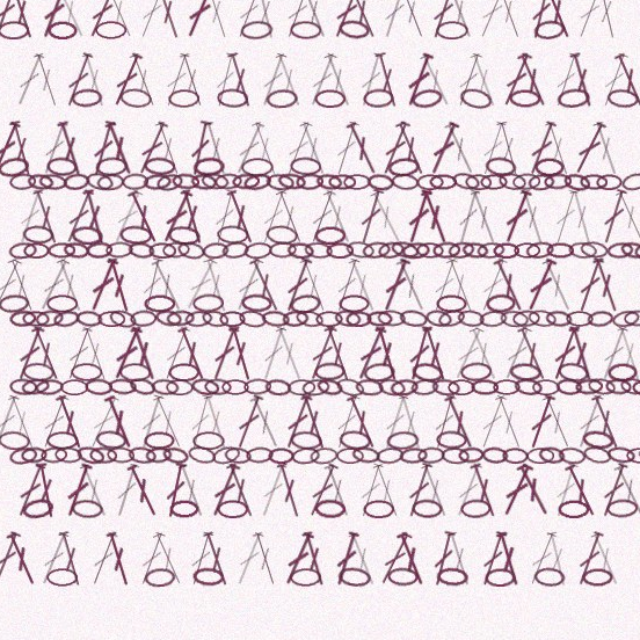chain: (417, 122, 448, 144), (40, 476, 69, 497), (376, 123, 405, 143), (19, 182, 48, 202), (271, 300, 300, 320), (376, 359, 405, 379), (502, 359, 531, 379), (313, 64, 342, 83), (502, 123, 531, 142), (523, 418, 552, 437), (313, 536, 342, 555), (482, 64, 510, 83), (125, 123, 153, 142), (440, 182, 468, 201), (251, 241, 279, 260), (104, 418, 132, 437), (314, 418, 342, 437), (229, 65, 258, 83), (166, 242, 195, 260), (355, 419, 384, 437), (115, 313, 141, 333), (311, 372, 337, 392), (251, 124, 279, 142), (545, 124, 573, 142), (356, 183, 384, 201), (83, 242, 111, 260), (20, 301, 48, 319), (41, 360, 69, 378), (335, 360, 363, 378), (461, 360, 489, 378), (20, 419, 48, 437), (272, 419, 300, 437), (83, 478, 111, 496), (146, 537, 174, 555), (95, 195, 121, 214), (411, 195, 437, 214), (557, 195, 583, 214), (358, 254, 384, 273), (132, 372, 158, 391), (87, 431, 113, 450), (183, 431, 209, 450), (204, 431, 230, 450), (524, 431, 550, 450), (83, 124, 111, 141), (104, 183, 132, 200), (188, 183, 216, 200), (41, 242, 69, 259), (125, 242, 153, 259), (398, 537, 426, 554), (482, 537, 510, 554), (568, 254, 593, 273), (399, 313, 424, 332), (231, 196, 257, 214), (174, 255, 200, 273), (227, 314, 253, 332), (276, 314, 302, 332), (549, 314, 575, 332), (579, 314, 605, 332), (347, 373, 373, 391), (29, 432, 55, 450), (209, 124, 236, 141), (335, 124, 362, 141), (62, 183, 89, 200), (146, 183, 173, 200), (272, 183, 299, 200), (209, 242, 236, 259), (188, 301, 215, 318), (230, 301, 257, 318), (293, 360, 320, 377), (419, 360, 446, 377), (398, 419, 425, 436), (293, 478, 320, 495), (377, 478, 404, 495), (419, 478, 446, 495), (545, 478, 572, 495), (188, 537, 215, 554), (356, 537, 383, 554), (156, 196, 181, 214), (507, 196, 532, 214), (556, 255, 581, 273), (67, 314, 92, 332), (195, 314, 220, 332), (294, 373, 319, 391), (161, 432, 186, 450), (398, 66, 426, 82), (230, 184, 258, 200), (62, 420, 90, 436), (188, 420, 216, 436), (451, 196, 477, 213), (441, 301, 467, 318), (186, 373, 212, 390), (528, 373, 554, 390), (556, 373, 582, 390), (20, 66, 47, 82), (104, 66, 131, 82), (272, 66, 299, 82), (167, 125, 194, 141), (293, 125, 320, 141), (461, 125, 488, 141), (293, 243, 320, 259), (62, 302, 89, 318), (146, 302, 173, 318), (314, 302, 341, 318), (398, 302, 425, 318), (83, 361, 110, 377), (125, 361, 152, 377), (167, 361, 194, 377), (146, 420, 173, 436), (209, 479, 236, 495), (335, 479, 362, 495), (503, 479, 530, 495), (62, 538, 89, 554), (272, 538, 299, 554), (440, 538, 467, 554), (524, 538, 551, 554), (195, 196, 220, 213), (261, 196, 286, 213), (575, 196, 600, 213), (320, 255, 345, 272), (334, 255, 359, 272), (347, 255, 372, 272), (475, 255, 500, 272), (522, 255, 547, 272), (584, 255, 609, 272), (52, 314, 77, 331), (155, 314, 180, 331), (366, 314, 391, 331), (388, 314, 413, 331), (477, 314, 502, 331), (40, 373, 65, 390), (465, 373, 490, 390), (132, 432, 157, 449), (325, 432, 350, 449), (545, 432, 570, 449), (63, 66, 89, 82), (483, 184, 509, 200), (546, 361, 572, 377), (168, 479, 194, 495), (76, 196, 100, 213), (213, 255, 237, 272), (408, 255, 432, 272), (310, 314, 334, 331), (416, 314, 440, 331), (486, 432, 510, 449), (572, 432, 596, 449), (55, 197, 80, 213), (105, 197, 130, 213), (145, 197, 170, 213), (251, 197, 276, 213), (359, 197, 384, 213), (29, 256, 54, 272), (232, 256, 257, 272), (284, 256, 309, 272), (368, 256, 393, 272), (433, 256, 458, 272), (512, 256, 537, 272), (181, 315, 206, 331), (247, 315, 272, 331), (435, 315, 460, 331), (453, 315, 478, 331), (52, 374, 77, 390), (152, 374, 177, 390), (282, 374, 307, 390), (328, 374, 353, 390), (358, 374, 383, 390), (376, 374, 401, 390), (394, 374, 419, 390), (273, 433, 298, 449), (289, 433, 314, 449), (346, 433, 371, 449), (366, 433, 391, 449), (402, 433, 427, 449), (503, 433, 528, 449), (45, 197, 69, 213), (186, 197, 210, 213), (294, 197, 318, 213), (338, 197, 362, 213), (477, 197, 501, 213), (76, 256, 100, 272), (132, 256, 156, 272), (196, 256, 220, 272), (269, 256, 293, 272), (420, 256, 444, 272), (545, 256, 569, 272), (87, 315, 111, 331), (492, 315, 516, 331), (528, 315, 552, 331), (250, 374, 274, 390), (215, 433, 239, 449), (165, 315, 190, 330), (347, 315, 372, 330), (115, 374, 140, 389), (170, 197, 194, 212), (207, 197, 231, 212), (222, 197, 246, 212), (277, 197, 301, 212), (464, 197, 488, 212), (491, 197, 515, 212), (113, 256, 137, 271), (162, 256, 186, 271), (254, 256, 278, 271), (395, 256, 419, 271), (265, 315, 289, 330), (464, 315, 488, 330), (560, 315, 584, 330), (30, 374, 54, 389), (95, 374, 119, 389), (198, 374, 222, 389), (232, 374, 256, 389), (501, 374, 525, 389), (518, 374, 542, 389), (69, 433, 93, 448), (99, 433, 123, 448), (114, 433, 138, 448), (147, 433, 171, 448), (234, 433, 258, 448), (382, 433, 406, 448), (437, 433, 461, 448), (30, 197, 53, 212), (127, 197, 150, 212), (96, 256, 119, 271), (30, 315, 53, 330), (134, 315, 157, 330), (544, 374, 567, 389), (40, 433, 63, 448), (57, 433, 80, 448), (417, 433, 440, 448), (305, 198, 329, 212), (318, 198, 342, 212), (381, 198, 405, 212), (392, 198, 416, 212), (436, 198, 460, 212), (522, 198, 546, 212), (63, 257, 87, 271), (150, 257, 174, 271), (303, 257, 327, 271), (381, 257, 405, 271), (493, 257, 517, 271), (41, 316, 65, 330), (106, 316, 130, 330), (294, 316, 318, 330), (510, 316, 534, 330), (74, 375, 98, 389), (165, 375, 189, 389), (213, 375, 237, 389), (270, 375, 294, 389), (408, 375, 432, 389), (428, 375, 452, 389), (447, 375, 471, 389), (481, 375, 505, 389), (567, 375, 591, 389), (312, 434, 336, 448), (476, 434, 500, 448), (562, 434, 586, 448), (423, 198, 446, 212), (536, 198, 559, 212), (42, 257, 65, 271), (447, 257, 470, 271), (465, 257, 488, 271), (211, 316, 234, 330), (320, 316, 343, 330), (338, 316, 361, 330), (253, 434, 276, 448), (455, 434, 478, 448)
double: (177, 269, 213, 318), (464, 446, 500, 495), (317, 151, 352, 201), (513, 151, 548, 201), (338, 210, 373, 260), (51, 269, 86, 319), (149, 269, 184, 319), (128, 446, 163, 496), (506, 446, 541, 496), (548, 446, 583, 496), (345, 505, 380, 555), (66, 33, 100, 83), (381, 92, 415, 142), (136, 151, 170, 201), (220, 151, 254, 201), (402, 151, 436, 201), (115, 210, 149, 260), (129, 210, 163, 260), (157, 210, 191, 260), (549, 210, 583, 260), (10, 269, 44, 319), (234, 269, 268, 319), (360, 269, 394, 319), (444, 269, 478, 319), (486, 269, 520, 319), (409, 328, 443, 378), (94, 387, 128, 437), (150, 387, 184, 437), (234, 387, 268, 437), (283, 446, 317, 496), (451, 446, 485, 496), (24, 505, 58, 555), (150, 505, 184, 555), (262, 505, 296, 555), (94, 33, 127, 83), (108, 33, 141, 83), (178, 33, 211, 83), (318, 33, 351, 83), (430, 33, 463, 83), (31, 92, 64, 142), (115, 92, 148, 142), (451, 92, 484, 142), (465, 92, 498, 142), (549, 92, 582, 142), (10, 151, 43, 201), (360, 151, 393, 201), (388, 151, 421, 201), (297, 210, 330, 260), (220, 269, 253, 319), (472, 269, 505, 319), (115, 328, 148, 378), (325, 328, 358, 378), (423, 328, 456, 378), (465, 328, 498, 378), (318, 387, 351, 437), (402, 387, 435, 437), (486, 387, 519, 437), (87, 446, 120, 496), (199, 446, 232, 496), (52, 505, 85, 555), (528, 505, 561, 555), (137, 33, 169, 83), (277, 33, 309, 83), (305, 33, 337, 83), (361, 33, 393, 83), (403, 33, 435, 83), (487, 33, 519, 83), (284, 92, 316, 142), (298, 92, 330, 142), (109, 151, 141, 201), (263, 151, 295, 201), (347, 151, 379, 201), (473, 151, 505, 201), (74, 210, 106, 260), (214, 210, 246, 260), (256, 210, 288, 260), (452, 210, 484, 260), (95, 269, 127, 319), (319, 269, 351, 319), (347, 269, 379, 319), (403, 269, 435, 319), (431, 269, 463, 319), (46, 328, 78, 378), (172, 328, 204, 378), (256, 328, 288, 378), (284, 328, 316, 378), (452, 328, 484, 378), (25, 387, 57, 437), (109, 387, 141, 437), (445, 387, 477, 437), (529, 387, 561, 437), (32, 446, 64, 496), (214, 446, 246, 496), (410, 446, 442, 496), (11, 505, 43, 555), (95, 505, 127, 555), (221, 505, 253, 555), (319, 505, 351, 555), (361, 505, 393, 555), (473, 505, 505, 555), (11, 33, 42, 83), (53, 33, 84, 83), (221, 33, 252, 83), (263, 33, 294, 83), (445, 33, 476, 83), (515, 33, 546, 83), (74, 92, 105, 142), (130, 92, 161, 142), (242, 92, 273, 142), (256, 92, 287, 142), (368, 92, 399, 142), (424, 92, 455, 142), (536, 92, 567, 142), (235, 151, 266, 201), (277, 151, 308, 201), (242, 210, 273, 260), (284, 210, 315, 260), (382, 210, 413, 260), (424, 210, 455, 260), (25, 269, 56, 319), (67, 269, 98, 319), (263, 269, 294, 319), (277, 269, 308, 319), (32, 328, 63, 378), (74, 328, 105, 378), (158, 328, 189, 378), (200, 328, 231, 378), (298, 328, 329, 378), (494, 328, 525, 378), (536, 328, 567, 378), (11, 387, 42, 437), (53, 387, 84, 437), (67, 387, 98, 437), (221, 387, 252, 437), (263, 387, 294, 437), (431, 387, 462, 437), (515, 387, 546, 437), (74, 446, 105, 496), (172, 446, 203, 496), (242, 446, 273, 496), (298, 446, 329, 496), (340, 446, 371, 496), (382, 446, 413, 496), (424, 446, 455, 496), (536, 446, 567, 496), (137, 505, 168, 555), (515, 505, 546, 555), (26, 33, 56, 83), (152, 33, 182, 83), (47, 92, 77, 142), (159, 92, 189, 142), (411, 92, 441, 142), (495, 92, 525, 142), (54, 151, 84, 201), (152, 151, 182, 201), (432, 151, 462, 201), (488, 151, 518, 201), (530, 151, 560, 201), (33, 210, 63, 260), (47, 210, 77, 260), (306, 269, 336, 319), (390, 269, 420, 319), (516, 269, 546, 319), (530, 269, 560, 319), (89, 328, 119, 378), (131, 328, 161, 378), (243, 328, 273, 378), (278, 387, 308, 437), (306, 387, 336, 437), (348, 387, 378, 437), (474, 387, 504, 437), (194, 505, 224, 555), (432, 505, 462, 555), (194, 33, 223, 83), (348, 33, 377, 83), (390, 33, 419, 83), (89, 92, 118, 142), (173, 92, 202, 142), (215, 92, 244, 142), (68, 151, 97, 201), (194, 151, 223, 201), (306, 151, 335, 201), (369, 210, 398, 260), (467, 210, 496, 260), (495, 210, 524, 260), (537, 210, 566, 260), (194, 269, 223, 319), (383, 328, 412, 378), (509, 328, 538, 378), (551, 328, 580, 378), (138, 387, 167, 437), (194, 387, 223, 437), (362, 387, 391, 437), (117, 446, 146, 496), (257, 446, 286, 496), (327, 446, 356, 496), (369, 446, 398, 496), (110, 505, 139, 555), (236, 505, 265, 555), (306, 505, 335, 555), (404, 505, 433, 555), (328, 92, 356, 142), (342, 92, 370, 142), (510, 92, 538, 142), (97, 151, 125, 201), (174, 210, 202, 260), (328, 210, 356, 260), (412, 210, 440, 260), (510, 210, 538, 260), (111, 269, 139, 319), (216, 328, 244, 378), (342, 328, 370, 378), (370, 328, 398, 378), (391, 387, 419, 437), (496, 446, 524, 496), (69, 505, 97, 555), (181, 505, 209, 555), (279, 505, 307, 555), (447, 505, 475, 555), (27, 151, 54, 201), (447, 151, 474, 201), (90, 210, 117, 260), (202, 210, 229, 260), (181, 387, 208, 437), (391, 505, 418, 555), (238, 33, 264, 83), (476, 33, 502, 83), (532, 33, 558, 83), (203, 92, 229, 142), (140, 269, 166, 319), (490, 505, 516, 555), (182, 151, 207, 201), (161, 446, 186, 496), (50, 446, 74, 496)
